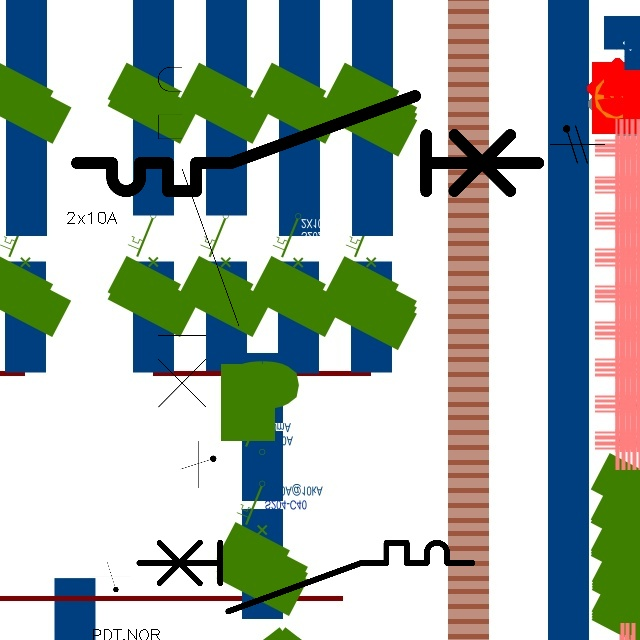interruptor_termomagnetico: (65, 84, 550, 203), (148, 27, 249, 441), (130, 534, 480, 619)
